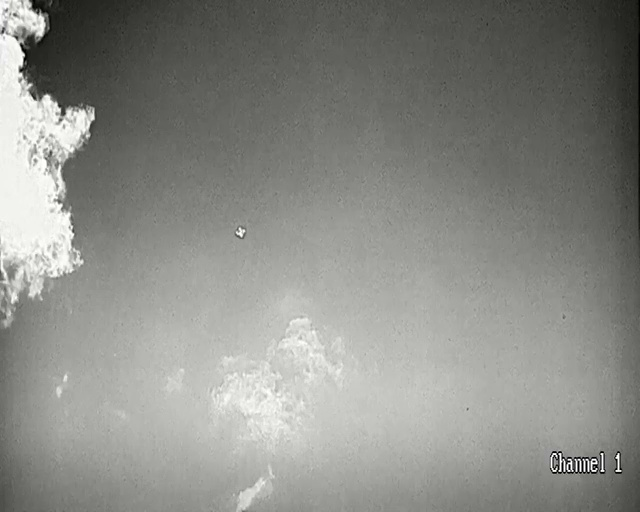uav: (234, 225, 245, 238)
